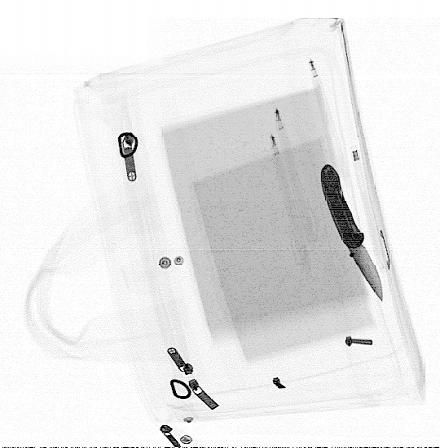Knife: (319, 163, 385, 301)
